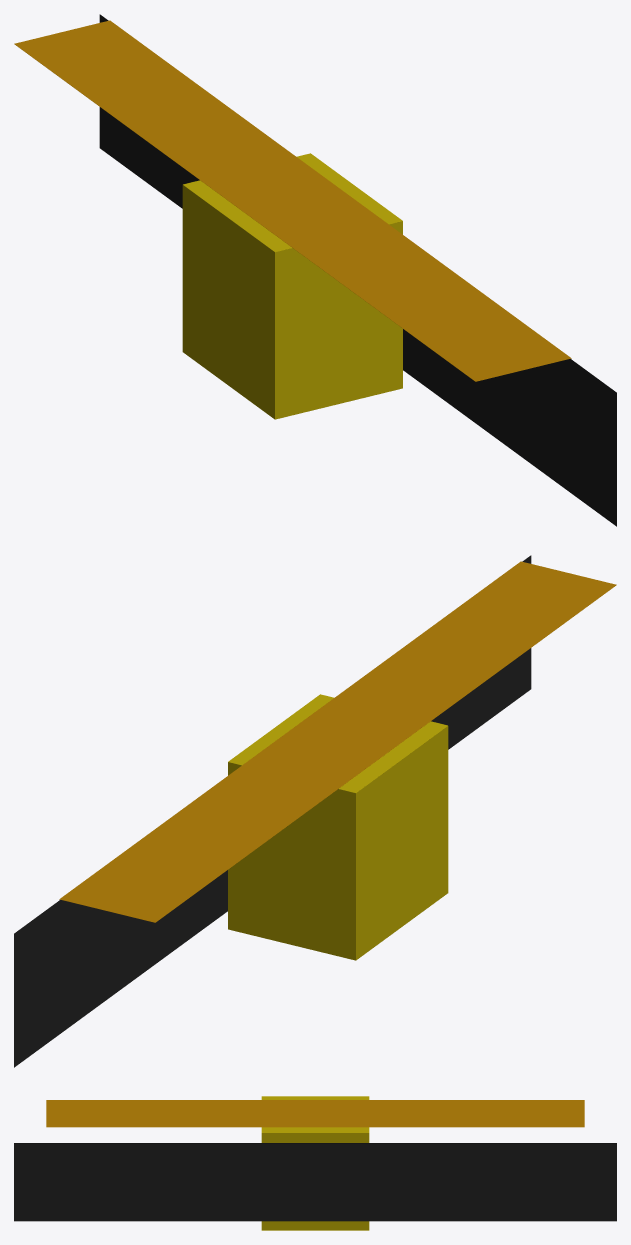
The model's file is simplesat_rotated.glb.
3 views of the same model, one above another, from view 1: azimuth 30°, elevation 25°; view 2: azimuth 150°, elevation 25°; view 3: azimuth 270°, elevation 25° (orthographic). The views are drawn at different scales.
Visible parts, largest first — view 1: world; view 2: world; view 3: world.
Boxes of the visible parts, x1,y1,x2,y2 form: world: [14, 14, 616, 526]; world: [14, 555, 616, 1067]; world: [14, 1096, 616, 1230].
Bounding box in the file's own units: 2028 × 2553 × 14004.
